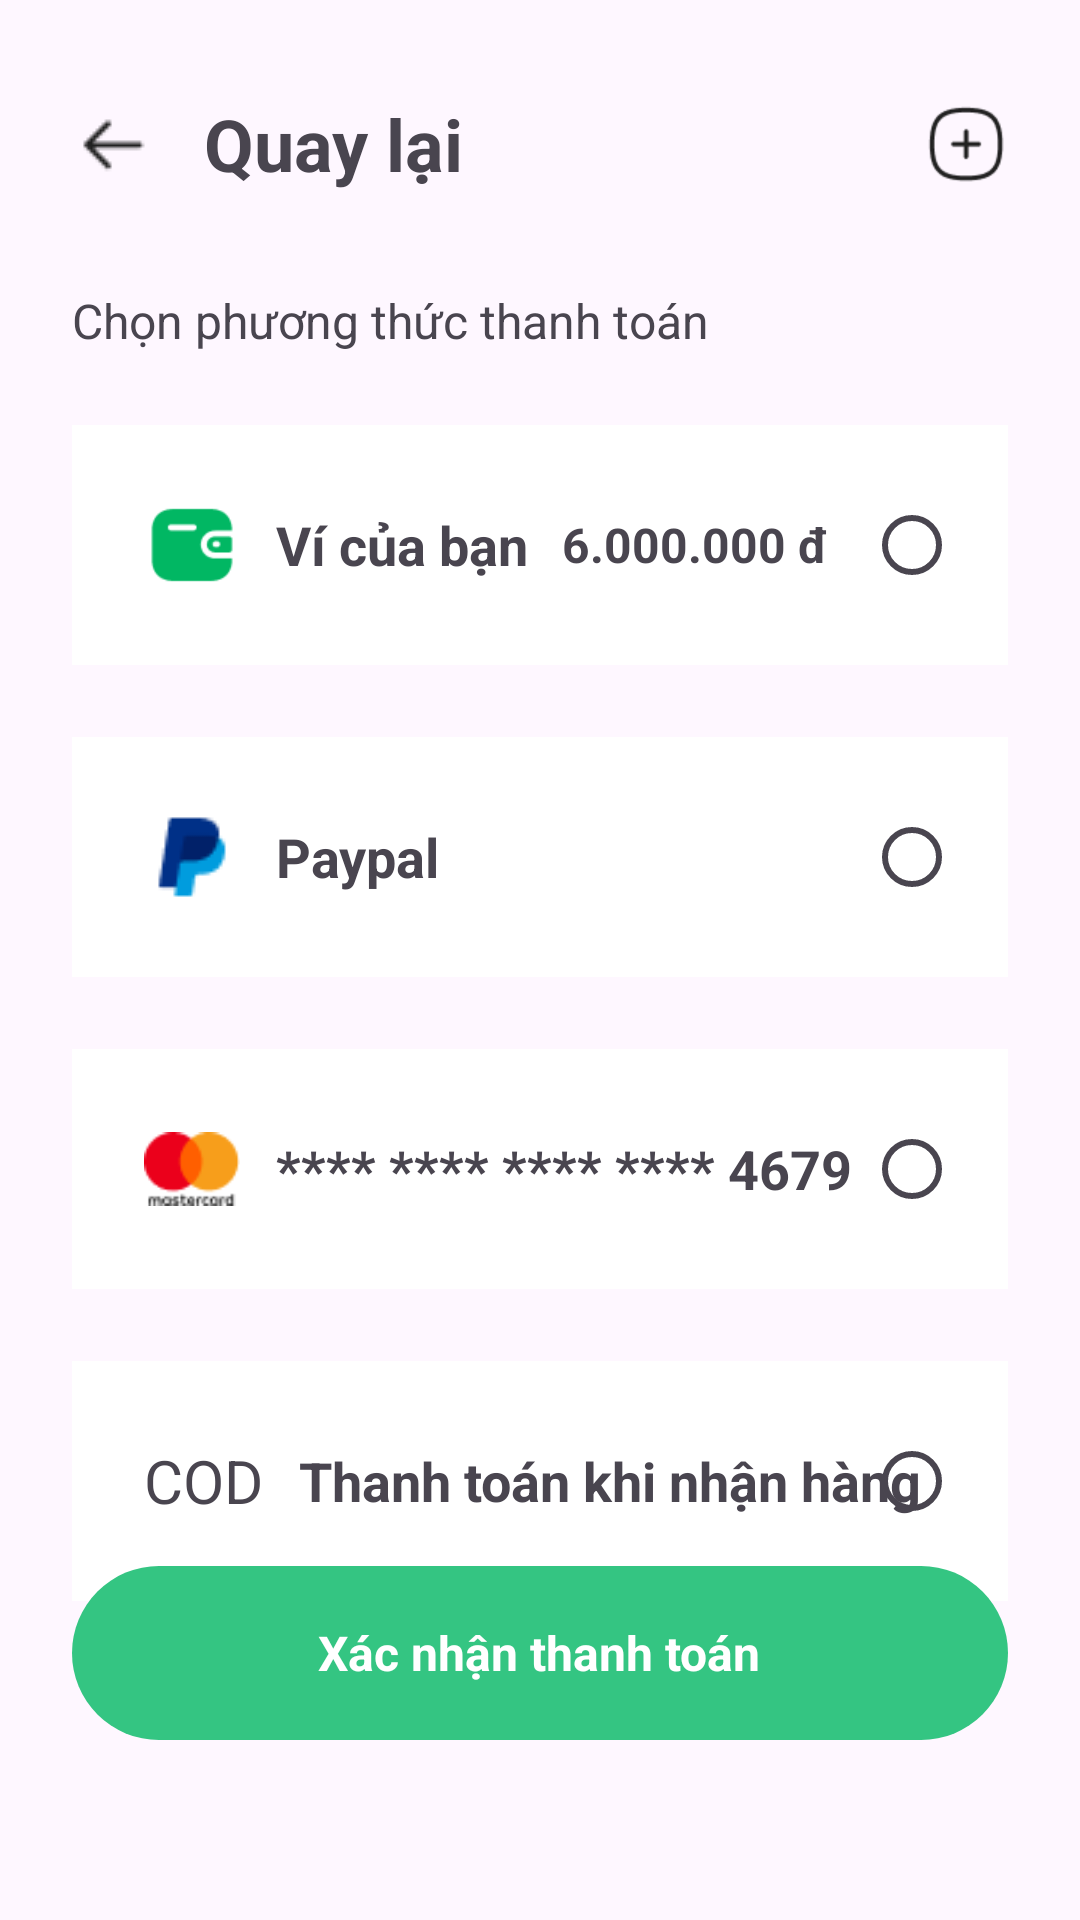

Icon click points for this 1080px x 1920px phone screenshot, format (x=x, y=y):
add: (x=966, y=144)
back: (x=113, y=144)
wallet: (x=192, y=545)
